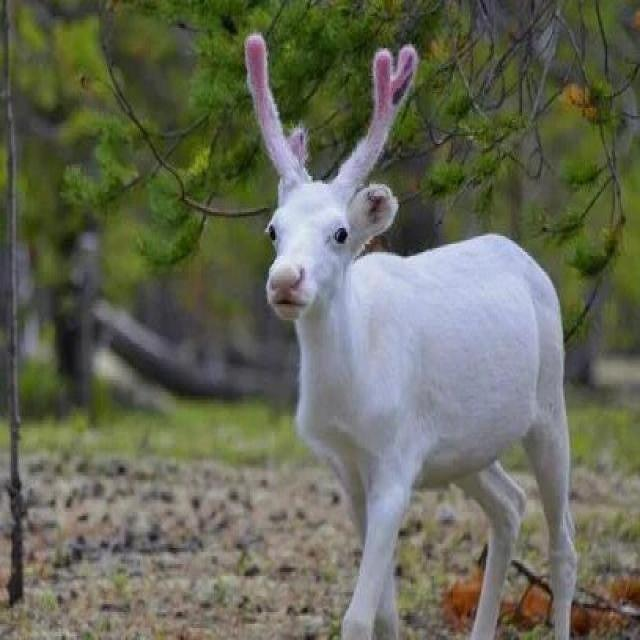deer: (245, 116, 574, 615)
